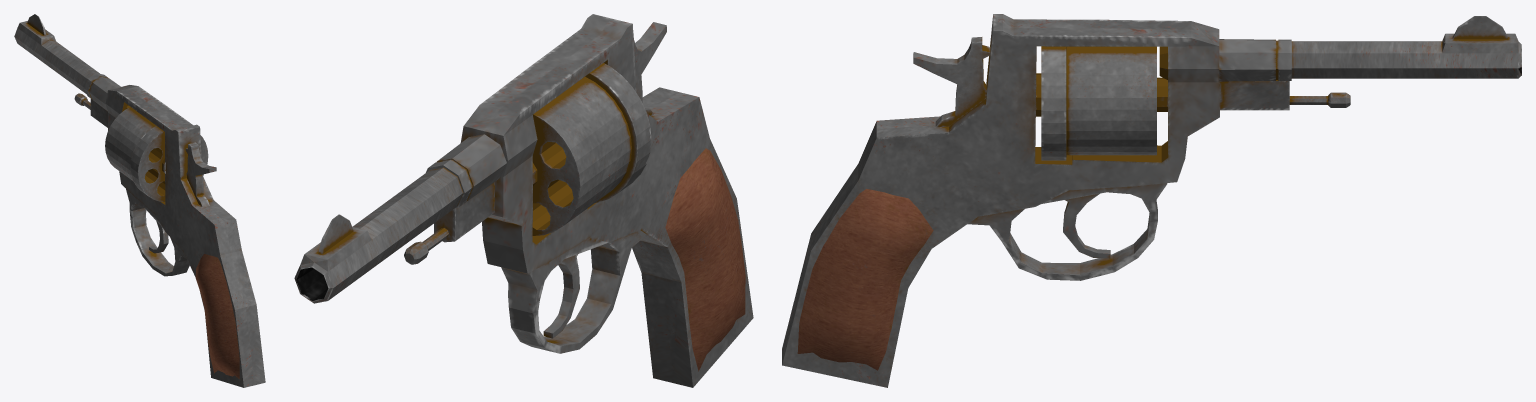
File: revolver.obj
3 renders of one model, left to right at view 1: azimuth 30°, elevation 25°; view 2: azimuth 150°, elevation 25°; view 3: azimuth 270°, elevation 25°, orthographic. The views are drawn at different scales.
Parts seen in each view (by area): view 1: Korpus_Plane; view 2: Korpus_Plane; view 3: Korpus_Plane.
Boxes of the visible parts, x1,y1,x2,y2 form: Korpus_Plane: (14, 14, 265, 387); Korpus_Plane: (294, 14, 753, 387); Korpus_Plane: (782, 14, 1521, 387).
Size of the model in its own units: 0.8595 by 2.64 by 4.88.
